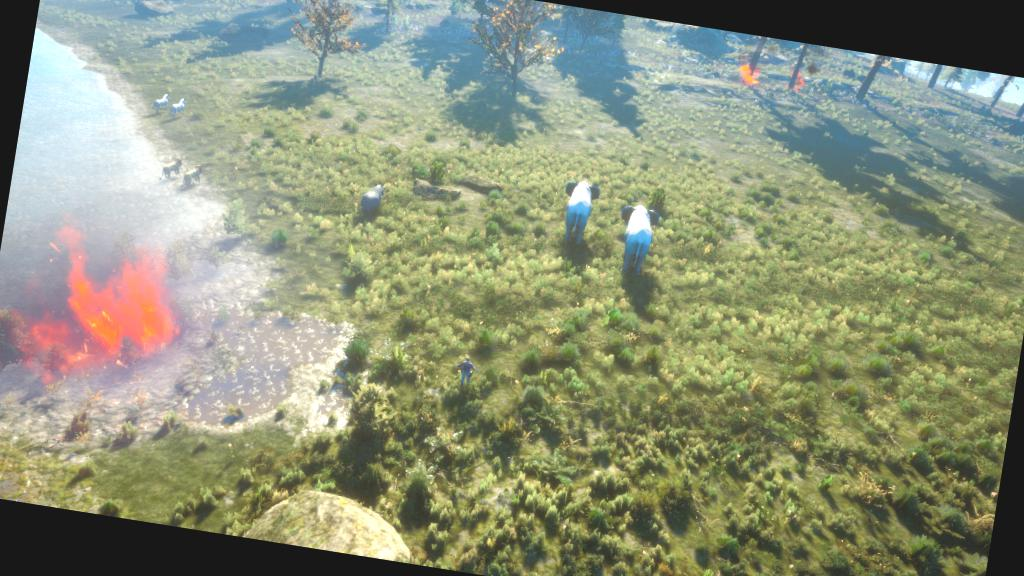Fire: (55, 262, 182, 353)
elephant: (544, 164, 610, 259), (610, 180, 664, 286)
hippopotamus: (348, 167, 398, 227)
human: (450, 349, 482, 391)
lion: (146, 144, 188, 188), (179, 157, 210, 198)
zebra: (166, 88, 194, 120), (150, 82, 173, 115)
